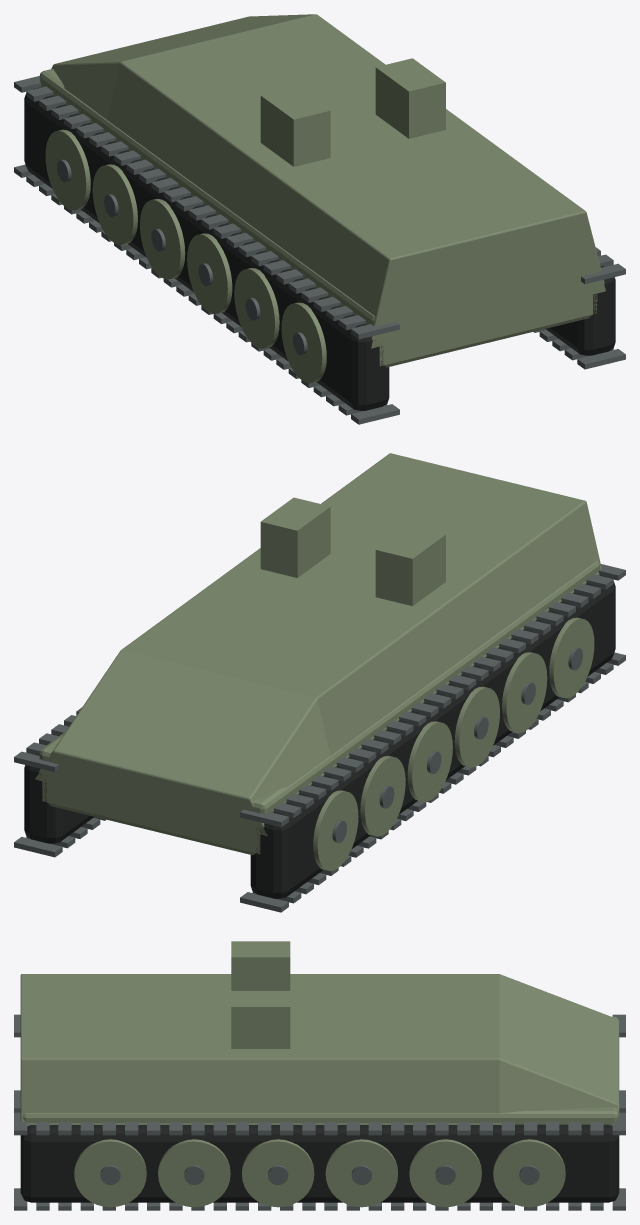
The picture shows the model from 3 angles, top to bottom: view 1: azimuth 30°, elevation 25°; view 2: azimuth 150°, elevation 25°; view 3: azimuth 270°, elevation 25°; orthographic projection. The views are drawn at different scales.
Parts seen in each view (by area): view 1: Hull_MVP olive paint, RunningGear_MVP olive paint, RunningGear_MVP rubber, RunningGear_MVP exposed metal; view 2: Hull_MVP olive paint, RunningGear_MVP exposed metal, RunningGear_MVP olive paint, RunningGear_MVP rubber; view 3: Hull_MVP olive paint, RunningGear_MVP olive paint, RunningGear_MVP rubber, RunningGear_MVP exposed metal.
Boxes of the visible parts, x1,y1,x2,y2 form: Hull_MVP olive paint: (39, 14, 605, 367); RunningGear_MVP olive paint: (45, 129, 326, 383); RunningGear_MVP rubber: (24, 87, 615, 410); RunningGear_MVP exposed metal: (14, 76, 625, 424); Hull_MVP olive paint: (35, 453, 601, 855); RunningGear_MVP exposed metal: (14, 564, 625, 912); RunningGear_MVP olive paint: (313, 617, 594, 871); RunningGear_MVP rubber: (24, 575, 615, 898); Hull_MVP olive paint: (20, 941, 619, 1126); RunningGear_MVP olive paint: (74, 1139, 565, 1207); RunningGear_MVP rubber: (20, 1124, 619, 1202); RunningGear_MVP exposed metal: (14, 1014, 625, 1210).
Size of the model in its own units: 3.39 by 2.34 by 7.26.
